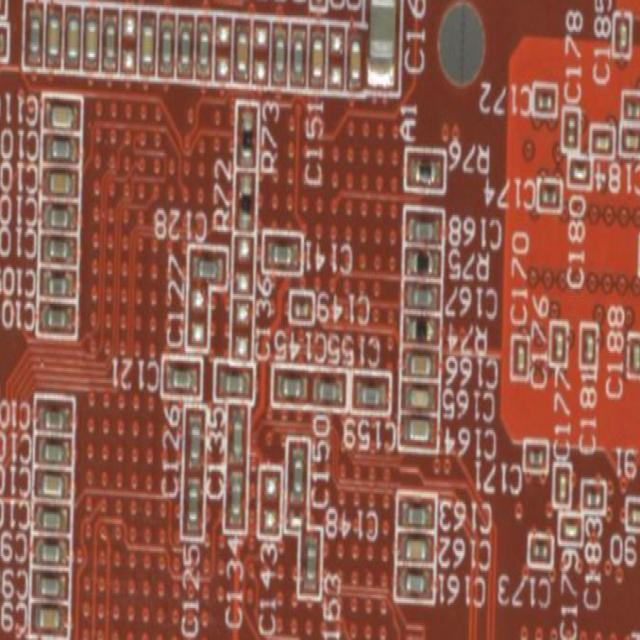capacitor: (362, 0, 398, 89), (273, 370, 308, 403), (215, 365, 249, 398), (396, 531, 431, 563), (308, 374, 342, 406), (396, 566, 430, 598), (186, 412, 204, 471), (190, 250, 223, 282), (227, 405, 244, 467), (287, 444, 304, 506), (41, 204, 76, 234), (182, 472, 199, 533), (44, 134, 78, 164), (40, 166, 74, 196), (405, 212, 439, 242), (40, 236, 74, 266), (403, 282, 437, 312), (38, 269, 72, 299), (38, 302, 72, 332), (401, 348, 435, 378), (400, 382, 434, 412), (352, 378, 386, 408), (164, 363, 198, 393), (400, 415, 434, 445), (36, 402, 70, 432), (35, 435, 69, 465), (226, 467, 243, 527), (398, 499, 432, 529), (34, 469, 68, 499), (33, 502, 67, 532), (34, 536, 68, 566), (31, 570, 65, 600), (31, 603, 65, 633), (264, 239, 300, 267), (300, 531, 316, 593), (44, 99, 78, 128), (289, 25, 305, 86), (194, 15, 210, 76), (232, 20, 248, 81), (346, 30, 362, 91), (101, 8, 117, 69), (158, 13, 174, 74), (176, 15, 192, 76), (24, 3, 40, 64), (44, 5, 60, 66), (81, 10, 97, 71), (270, 24, 286, 84), (308, 27, 324, 87), (139, 12, 155, 72), (64, 7, 80, 67), (528, 538, 548, 562), (580, 329, 593, 363), (582, 486, 602, 508), (560, 516, 578, 539), (624, 96, 640, 121), (615, 18, 627, 51), (534, 90, 552, 112), (290, 297, 308, 319), (552, 329, 564, 361), (628, 341, 640, 373), (512, 342, 524, 374), (525, 447, 544, 467), (556, 467, 566, 502), (593, 133, 610, 151), (569, 163, 586, 181), (540, 185, 557, 203), (624, 130, 639, 150), (287, 510, 302, 530), (565, 114, 575, 143), (627, 504, 640, 522), (312, 0, 323, 3)
pads: (260, 470, 278, 532), (251, 20, 268, 84), (188, 284, 206, 344), (232, 299, 250, 359), (328, 25, 344, 89), (214, 18, 230, 79), (233, 235, 249, 296), (121, 10, 136, 71)
resistor: (407, 154, 441, 187), (235, 172, 252, 228), (404, 247, 438, 275), (238, 106, 253, 166), (402, 316, 436, 342), (0, 28, 5, 54), (0, 0, 2, 13)
